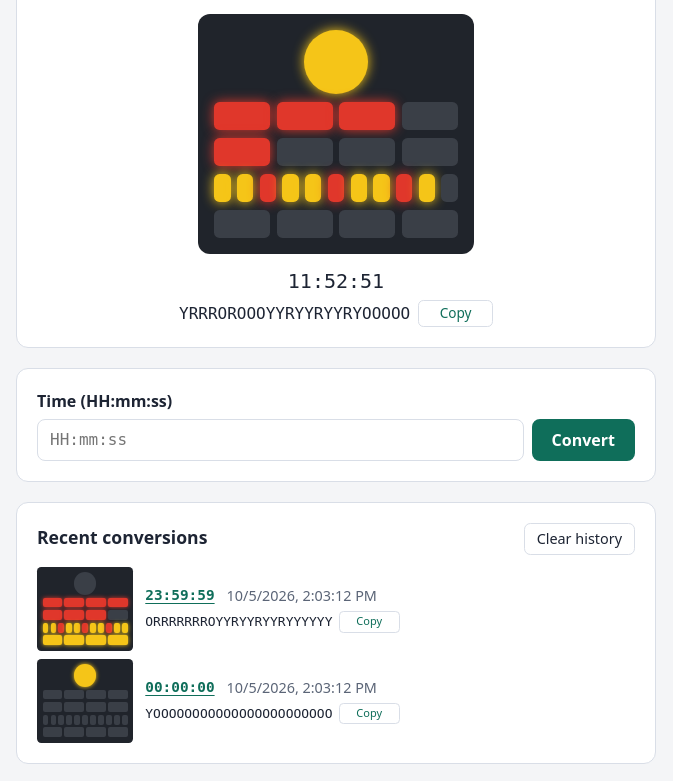
Test: Revisiting a conversion › marks the open conversion in the history
The image size is (673, 781).
(page scrolled)
Click the link "00:00:00" at (180, 688), box x1=145 y1=677 x2=215 y2=699
(page scrolled)
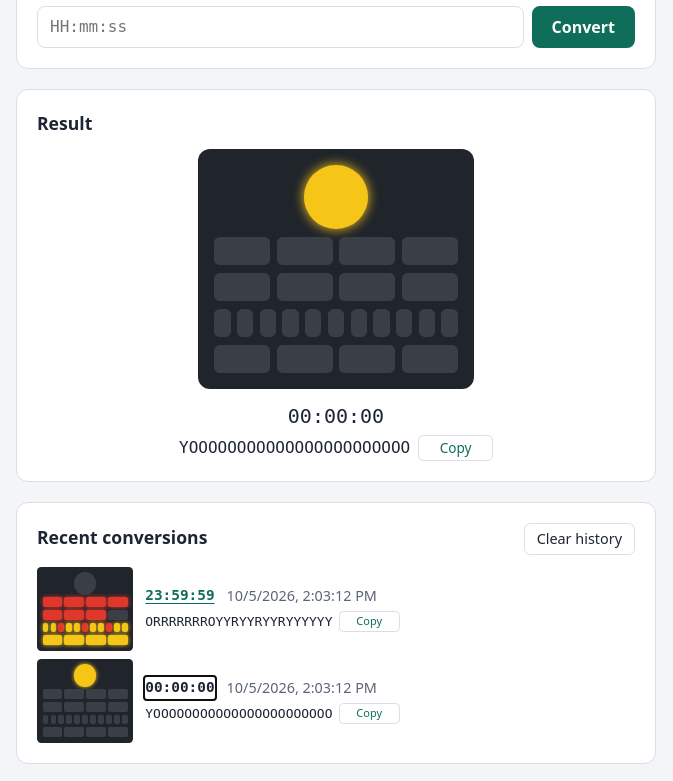
Check: the element "Result" is shown, box x1=16 y1=89 x2=656 y2=482
